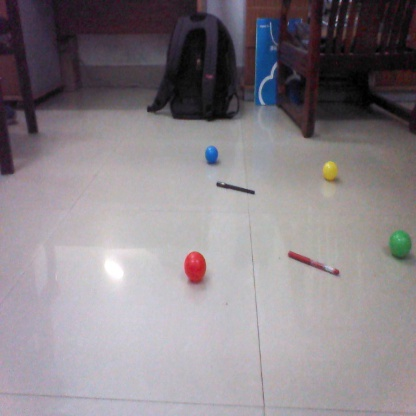ball: (184, 250, 211, 284), (391, 228, 413, 263), (322, 160, 340, 184), (202, 144, 224, 162)
pen: (286, 250, 341, 275), (213, 180, 257, 195)
